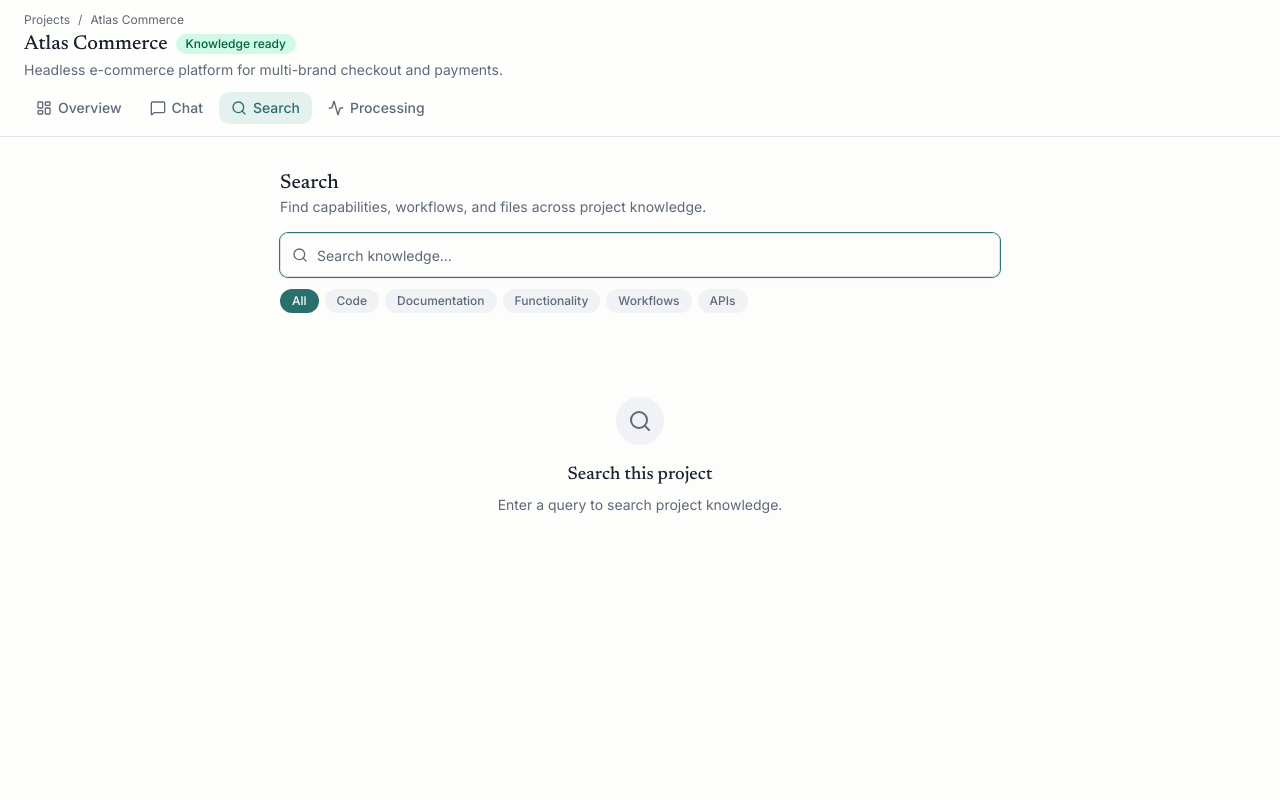
SearchPanel › shows a fallback search error when the rejection has no message
The image size is (1280, 800).
Expected: the heading "Search" is shown, [280,173,339,193]
In the field with placeholder "Search knowledge…": (640,255) [280,233,1000,277], type "refund"
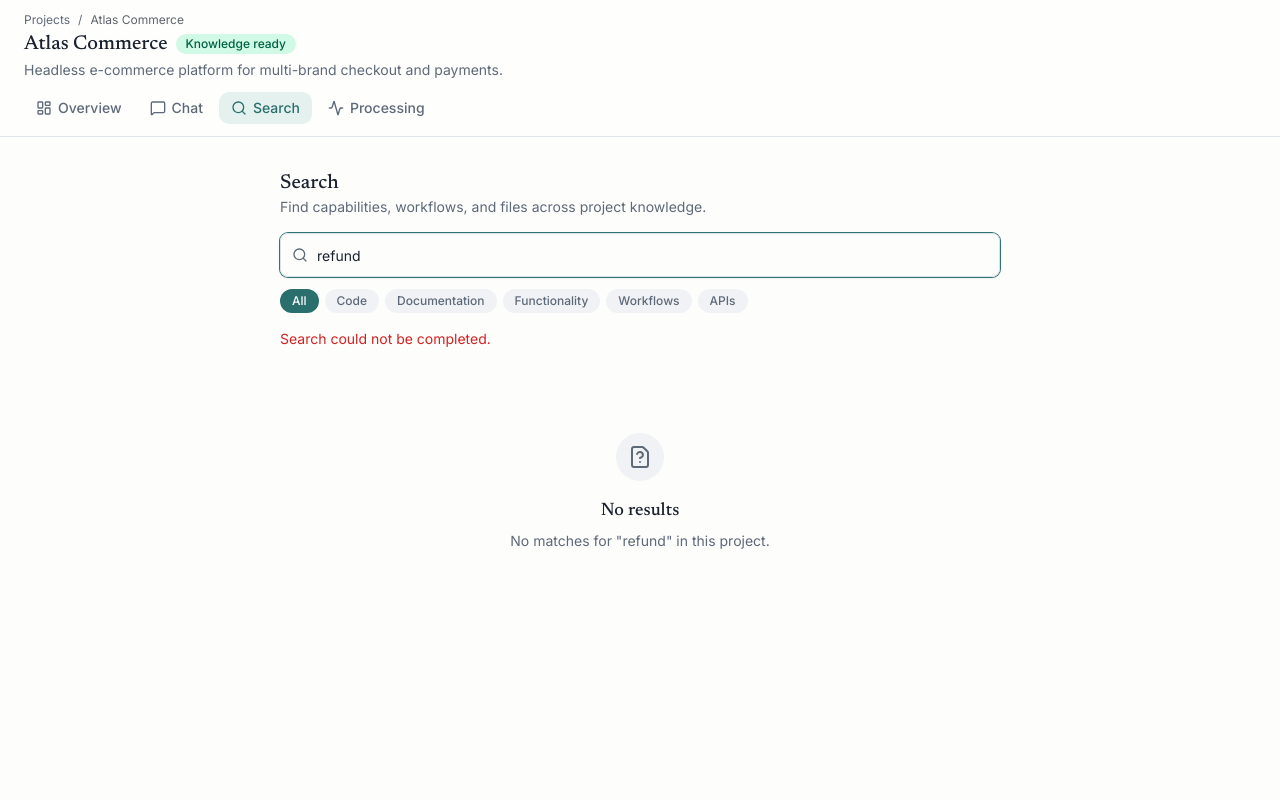
Expected: the text "Search could not be completed." is shown, [280,330,491,347]
